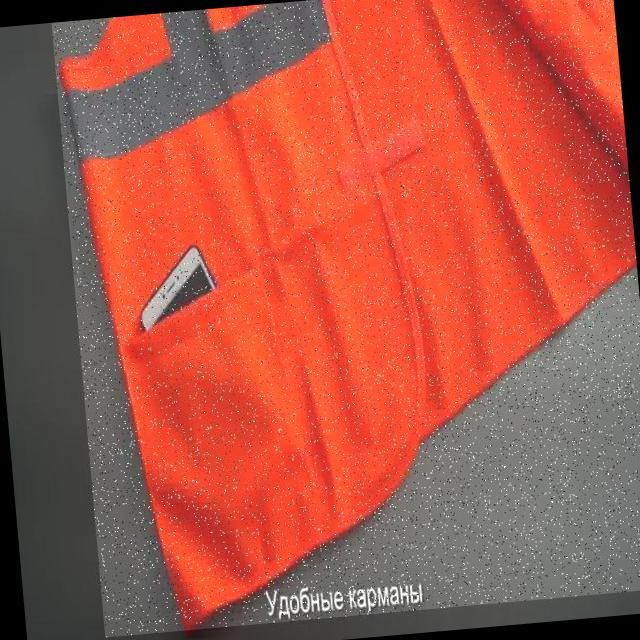Safety Vest: (51, 0, 640, 637)
